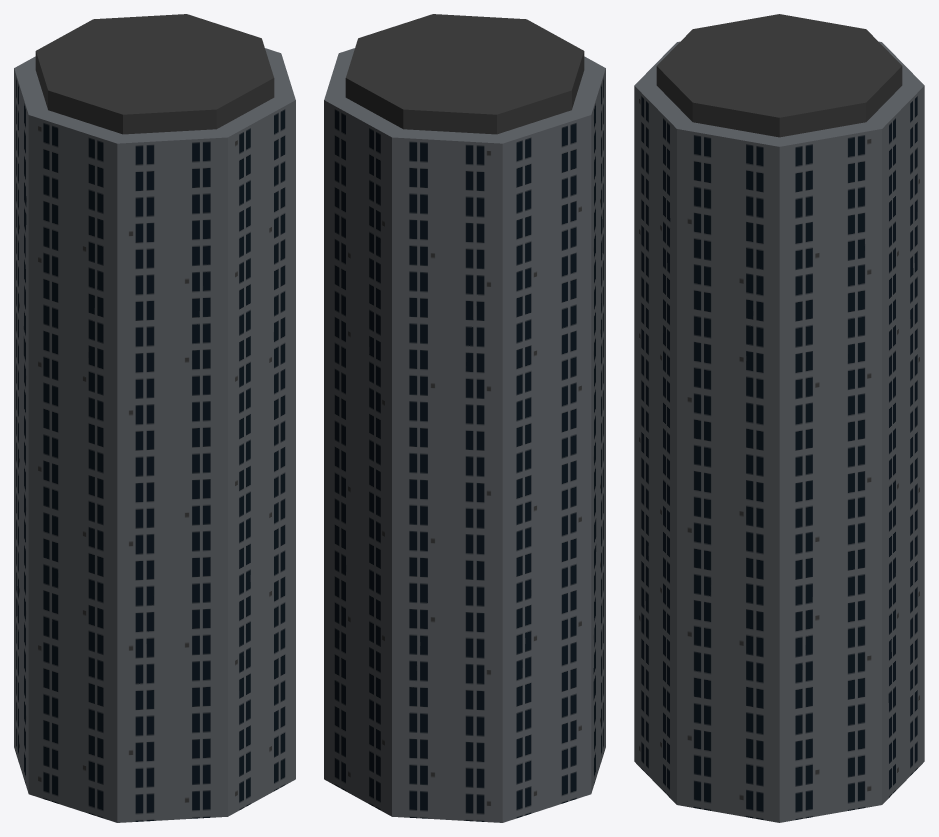
The model's file is SM_Env_Background_Building_Round_03.fbx.
3 renders of one model, left to right at view 1: azimuth 30°, elevation 25°; view 2: azimuth 150°, elevation 25°; view 3: azimuth 270°, elevation 25°, orthographic.
Visible parts, largest first — view 1: SM_Env_Background_Building_Round_03; view 2: SM_Env_Background_Building_Round_03; view 3: SM_Env_Background_Building_Round_03.
Boxes of the visible parts, x1,y1,x2,y2 form: SM_Env_Background_Building_Round_03: (14, 14, 295, 822); SM_Env_Background_Building_Round_03: (324, 14, 605, 822); SM_Env_Background_Building_Round_03: (634, 14, 924, 822).
Bounding box in the file's own units: 1970 × 5209 × 1970.
